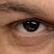eye: (23, 21, 39, 32)
